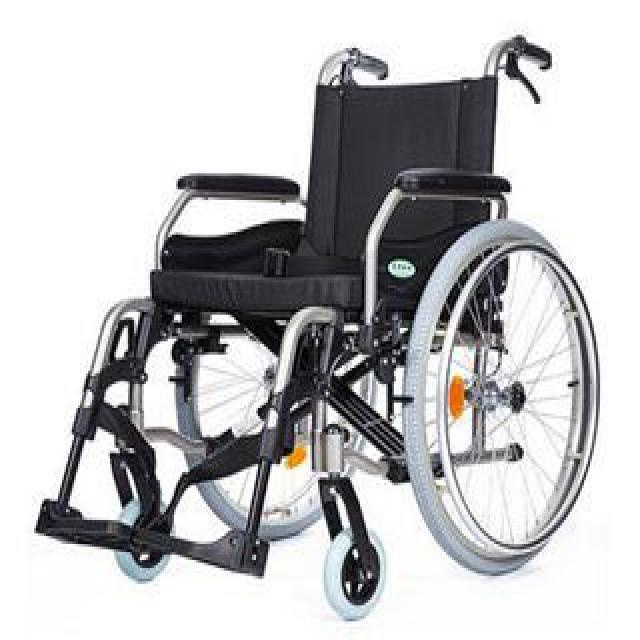wheelchair: (18, 26, 602, 622)
